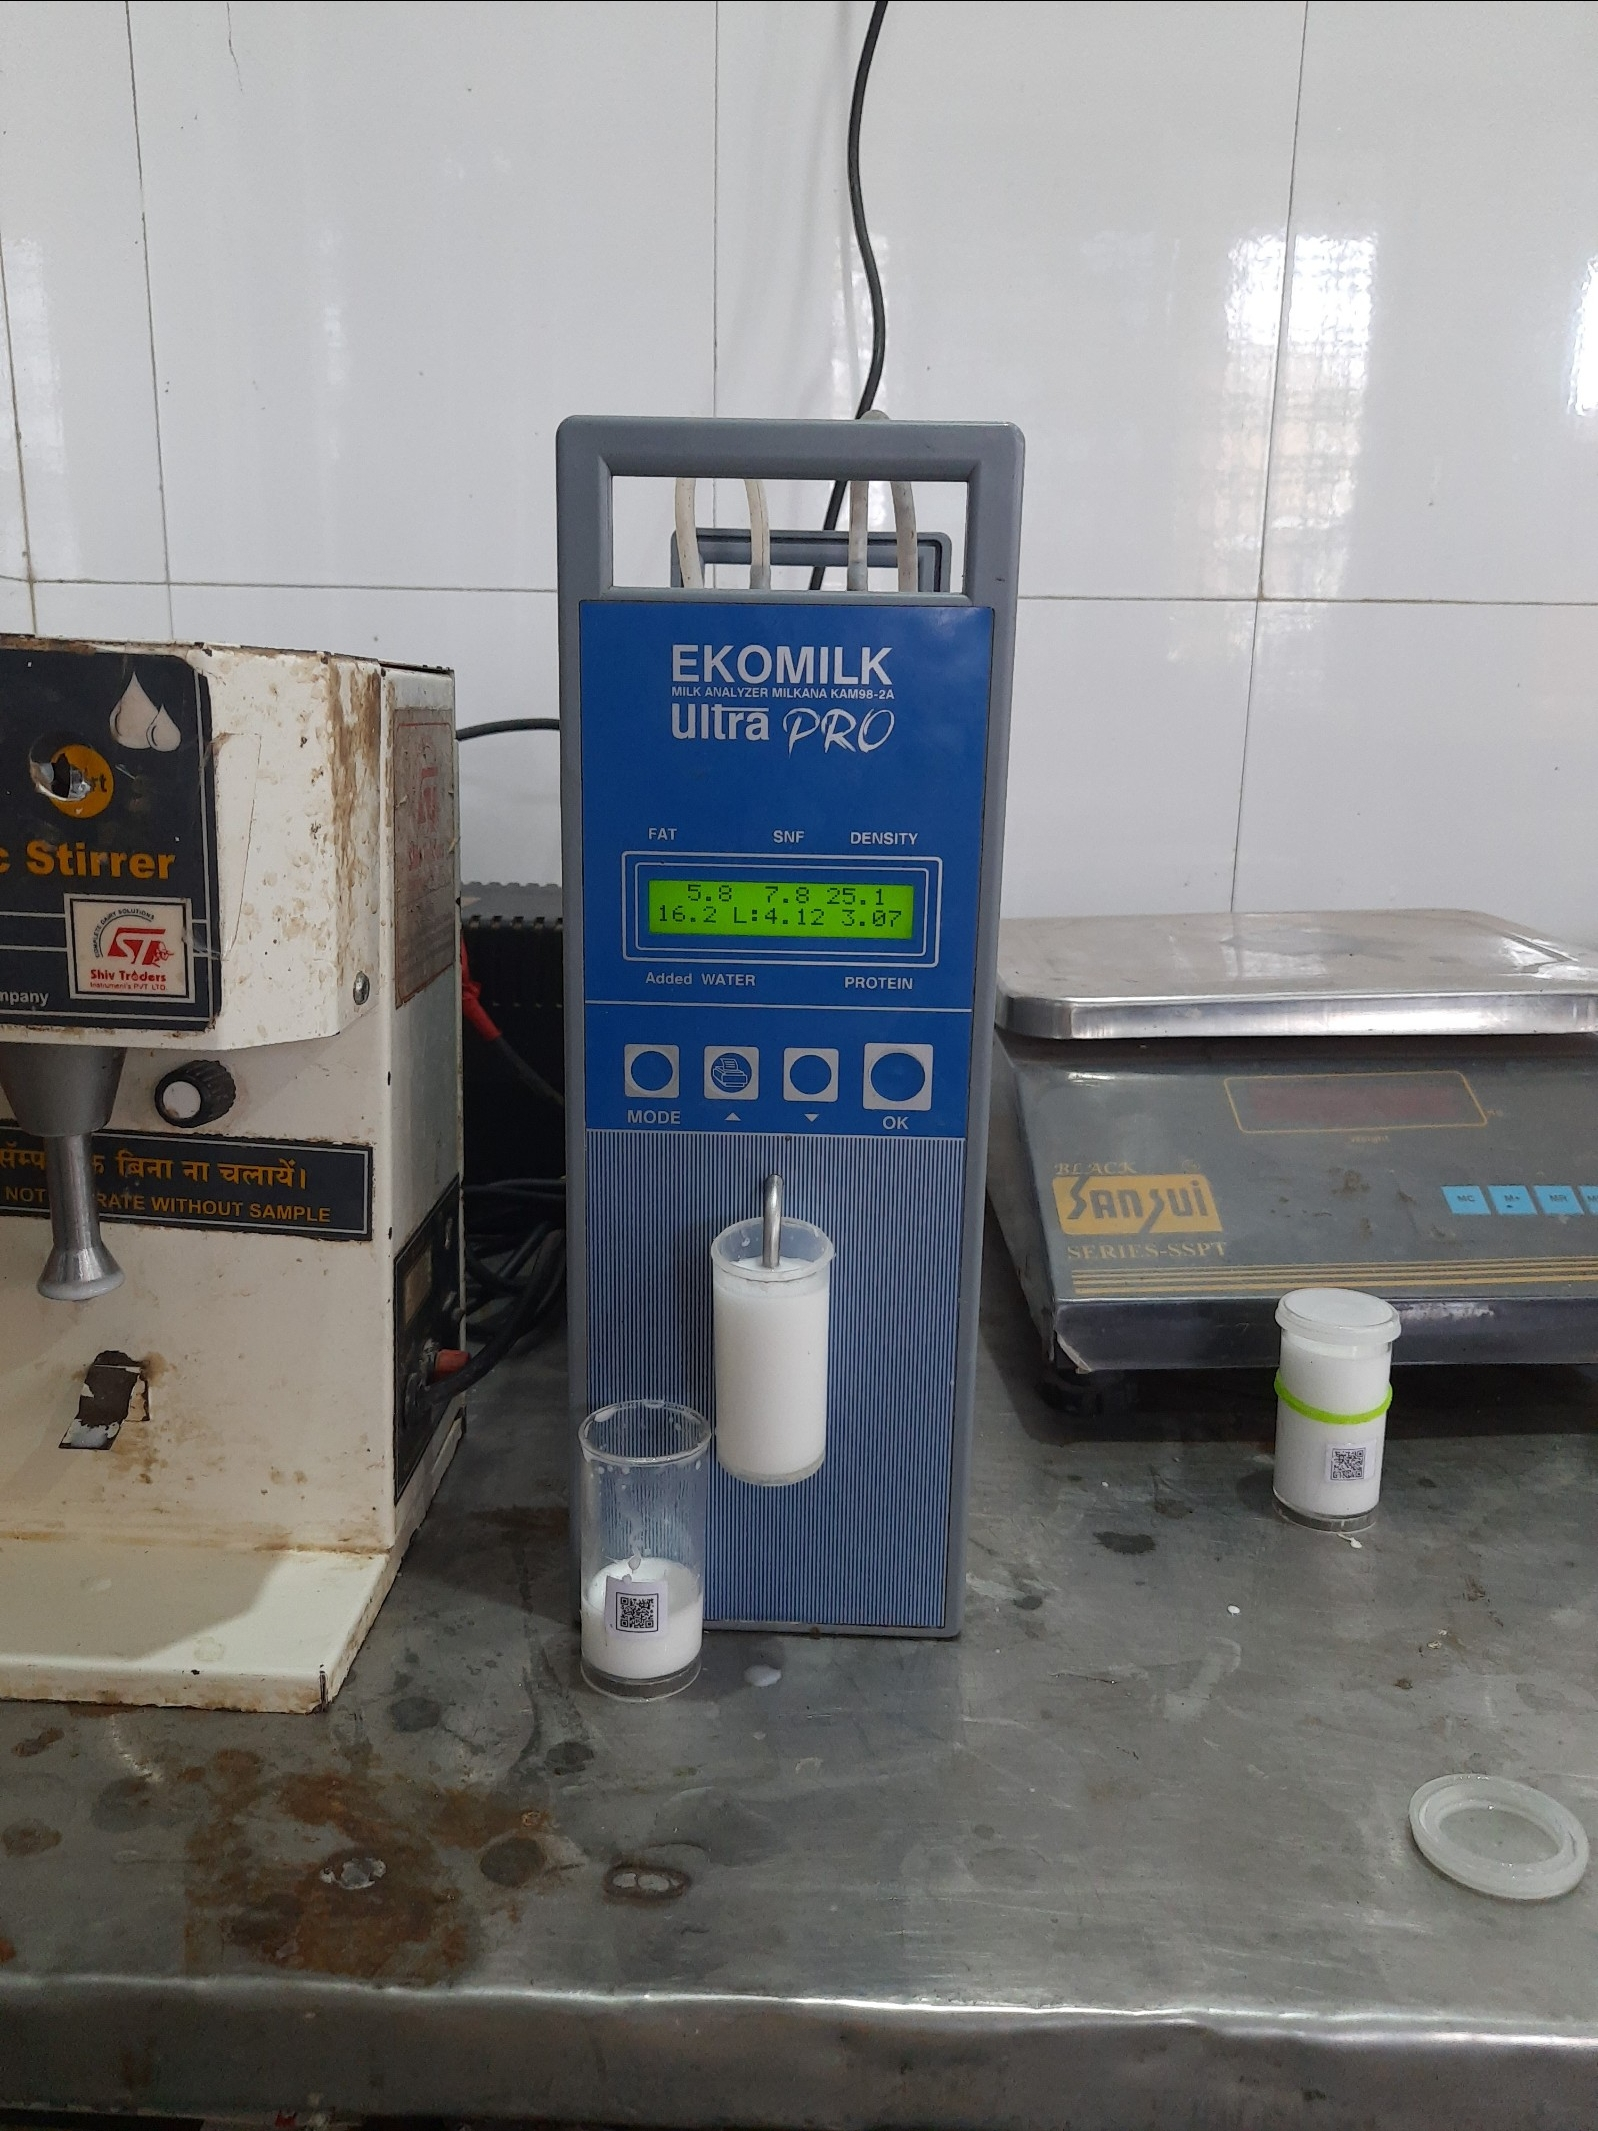lcd: (640, 866, 932, 951)
qr: (599, 1581, 683, 1636), (1326, 1450, 1380, 1503)
